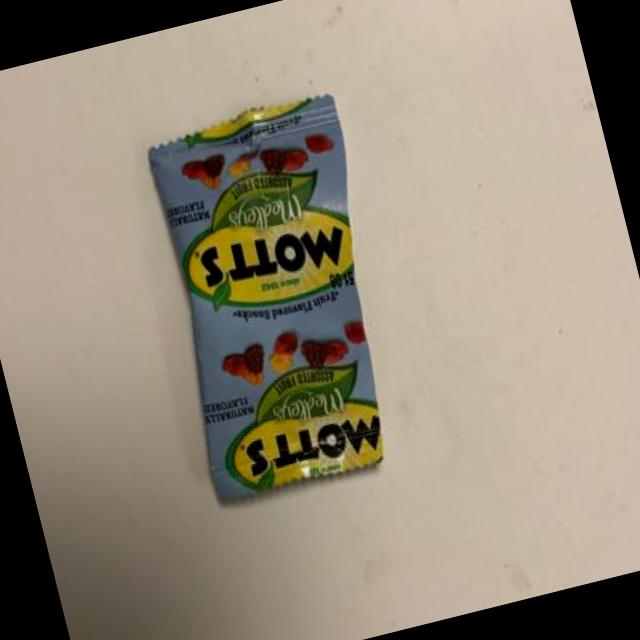giay_goi: (147, 93, 383, 507)
